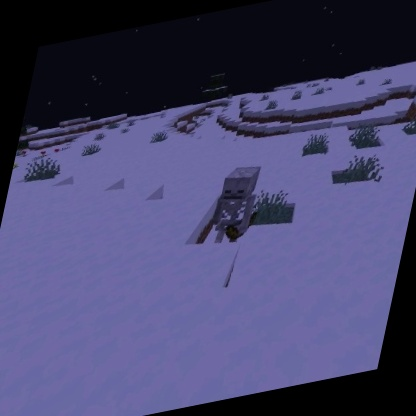skeleton: (205, 158, 273, 248)
